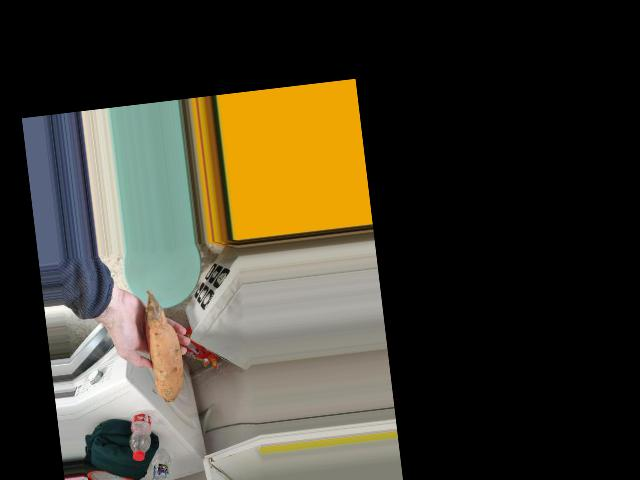sweet_potato: (139, 292, 186, 404)
